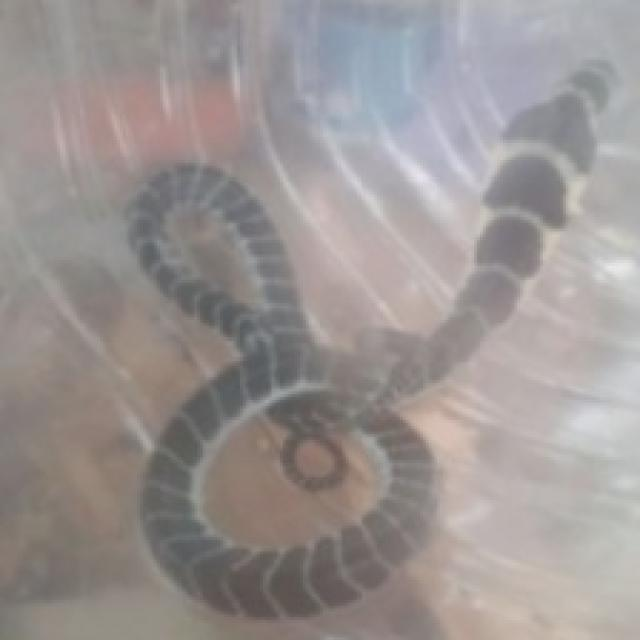king cobra: (126, 63, 609, 614)
